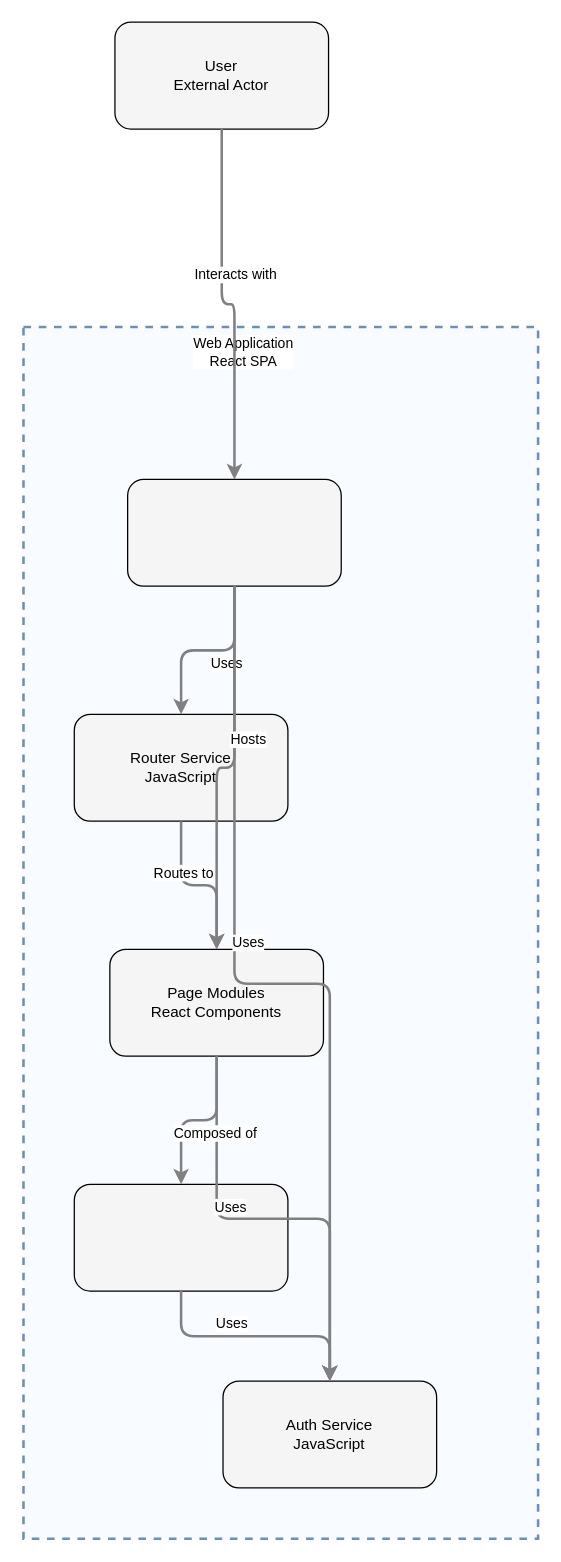
This 561x1562 diagram has some shape labels left out. The shapes that lost their labels are listed below. From the top down, each one's centre as x and y in pixels, then its label:
(x=233, y=532): Application Shell React / JavaScript
(x=180, y=1237): UI Component Library React Components
